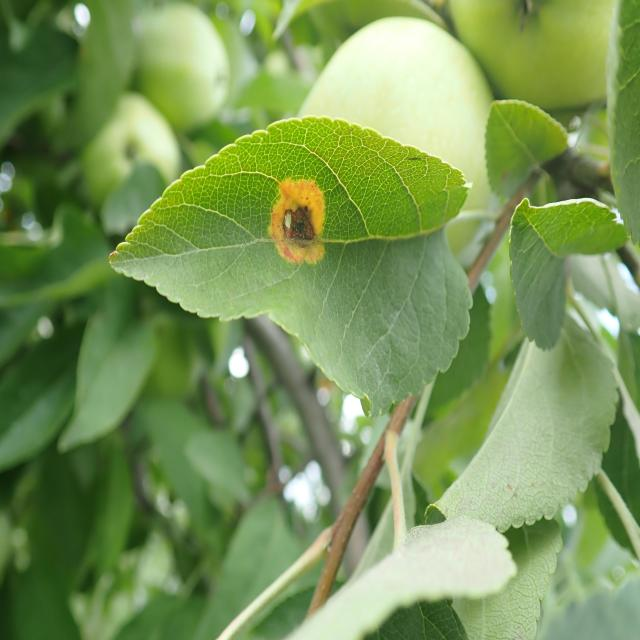Rust: (268, 163, 342, 294)
